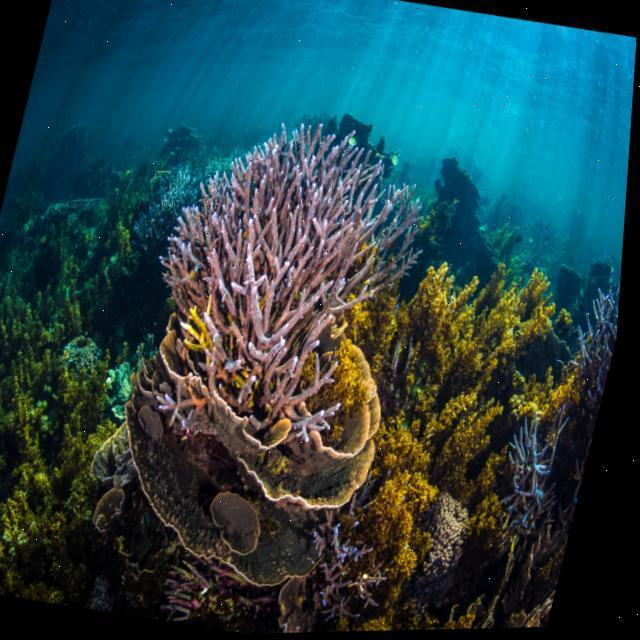Healthy Coral: (134, 124, 418, 445), (92, 322, 401, 607), (342, 247, 570, 590)
